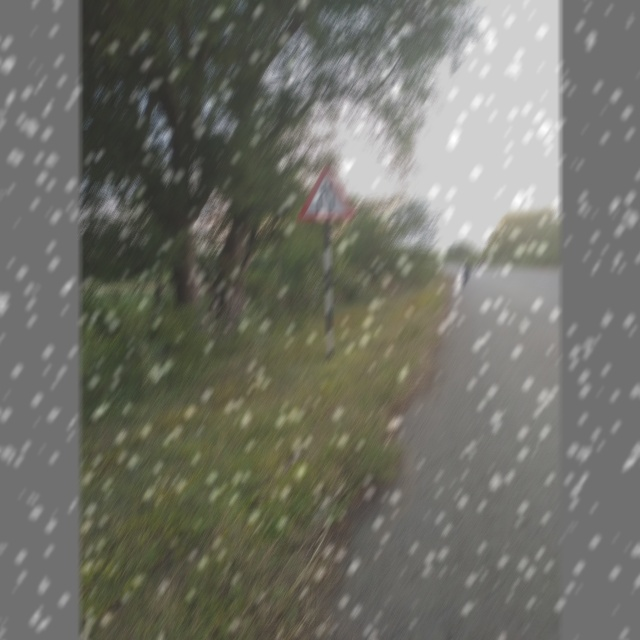Narrow_Road_Ahead: (296, 163, 353, 220)
